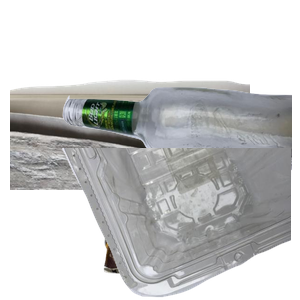glass: (60, 84, 300, 260)
paper: (10, 77, 250, 257)
plastic: (60, 148, 300, 300)
trash: (101, 157, 270, 300)
